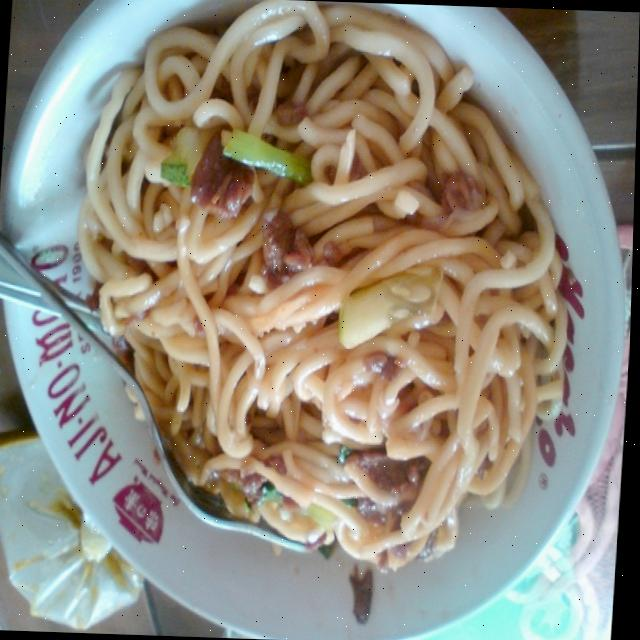面条主食: (39, 23, 596, 617)
